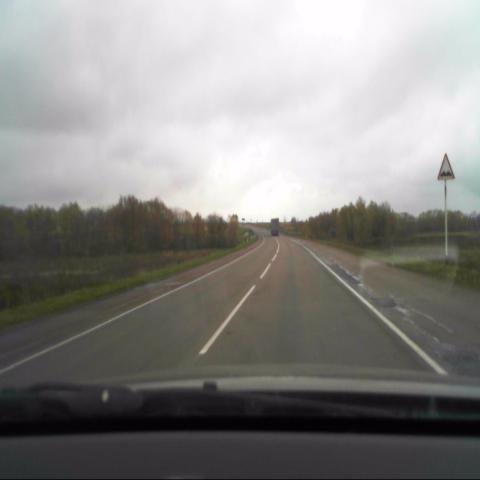1_16: (436, 152, 454, 179)
